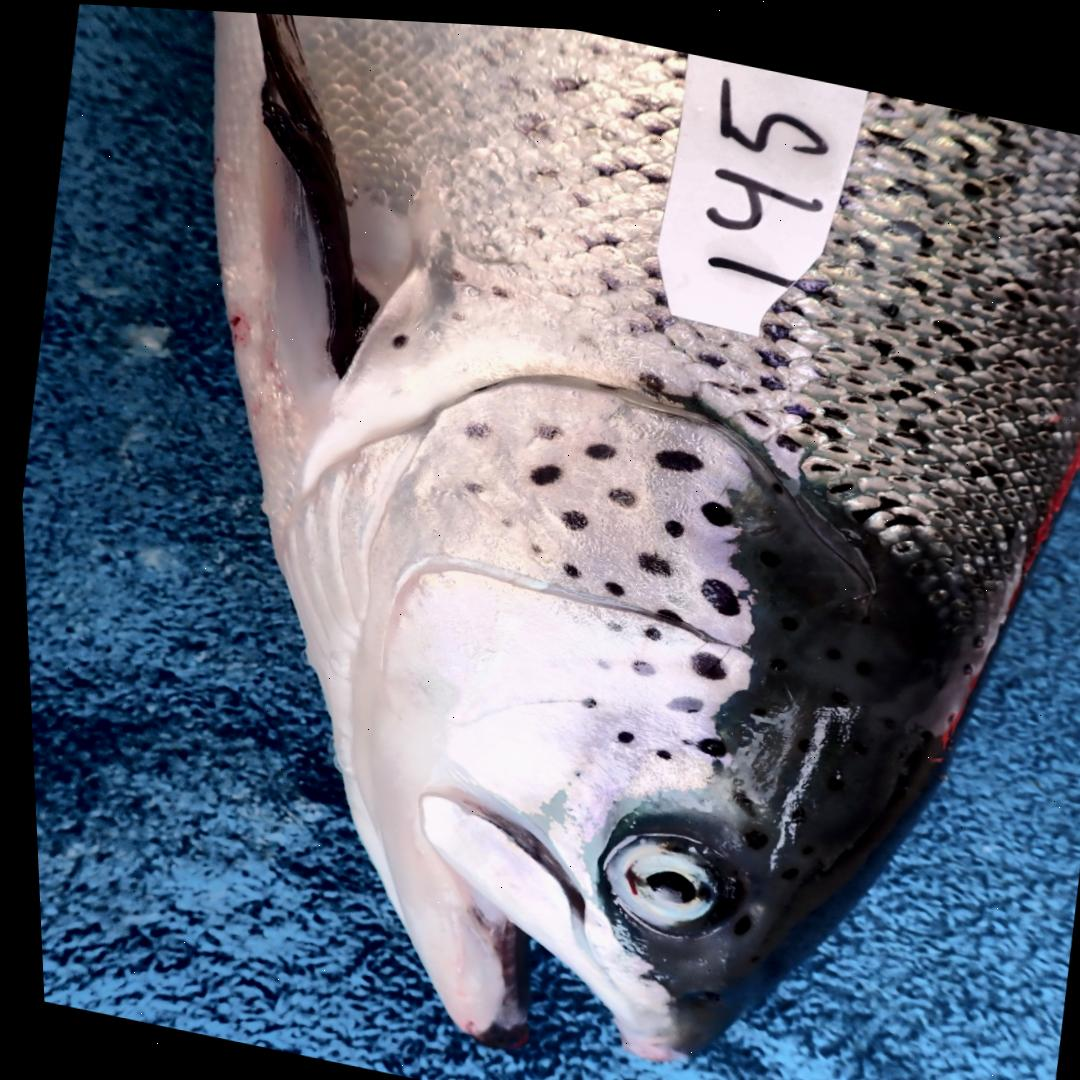spot: (696, 569, 734, 607), (650, 441, 698, 464), (684, 642, 720, 672), (631, 544, 666, 568), (697, 492, 727, 518), (525, 457, 555, 478), (689, 728, 719, 749), (661, 687, 695, 705), (555, 502, 583, 523), (582, 435, 612, 453), (603, 480, 630, 500), (461, 415, 488, 434), (659, 512, 680, 529), (533, 417, 554, 433), (627, 652, 648, 668), (598, 573, 619, 589), (652, 600, 675, 613), (609, 722, 627, 737), (558, 556, 575, 571), (637, 619, 655, 632), (599, 613, 618, 624), (460, 476, 478, 487), (574, 689, 590, 701), (649, 741, 664, 752), (525, 537, 540, 548), (592, 651, 609, 660), (495, 512, 509, 521)
